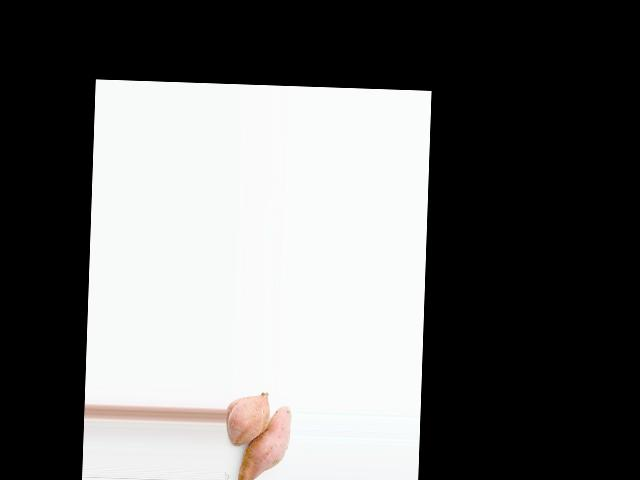sweet_potato: (230, 390, 266, 443)
